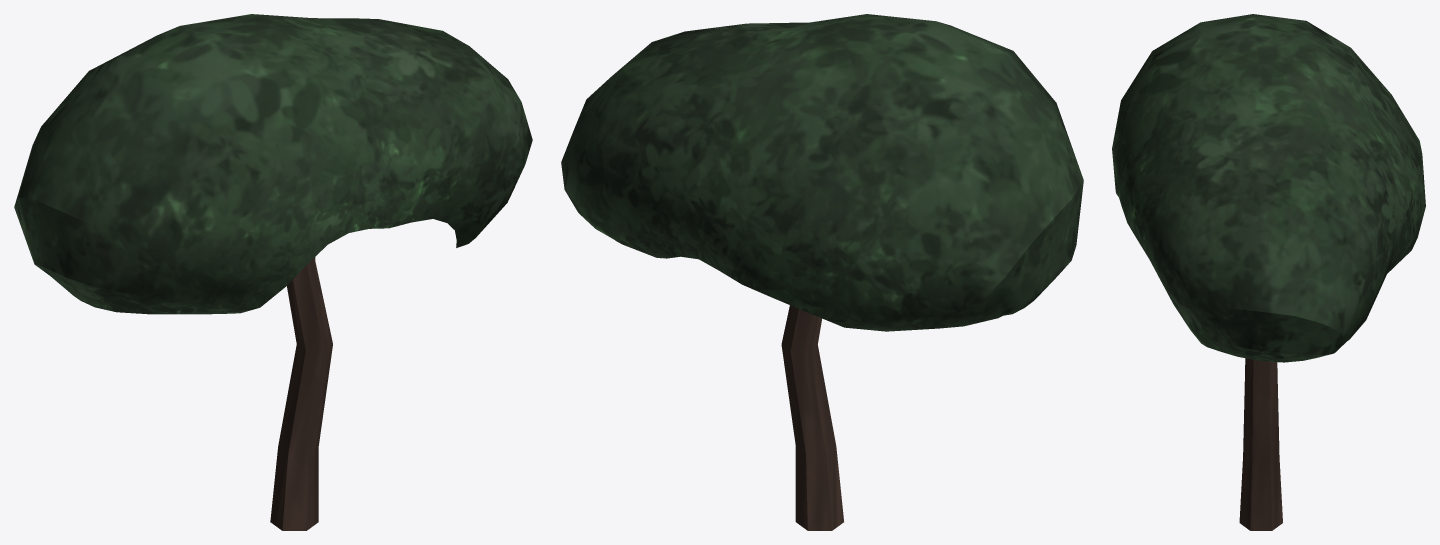
File: ArvoreGrandePampas.fbx
The picture shows the model from 3 angles, left to right: view 1: azimuth 30°, elevation 25°; view 2: azimuth 150°, elevation 25°; view 3: azimuth 270°, elevation 25°; orthographic projection. The views are drawn at different scales.
Visible parts, largest first — view 1: ArvoreGrandePampas; view 2: ArvoreGrandePampas; view 3: ArvoreGrandePampas.
Part boxes in pixels (bbox=[...]): ArvoreGrandePampas: bbox=[14, 14, 532, 530]; ArvoreGrandePampas: bbox=[561, 14, 1083, 530]; ArvoreGrandePampas: bbox=[1112, 14, 1425, 530].
Bounding box in the file's own units: 159 × 162 × 101.
